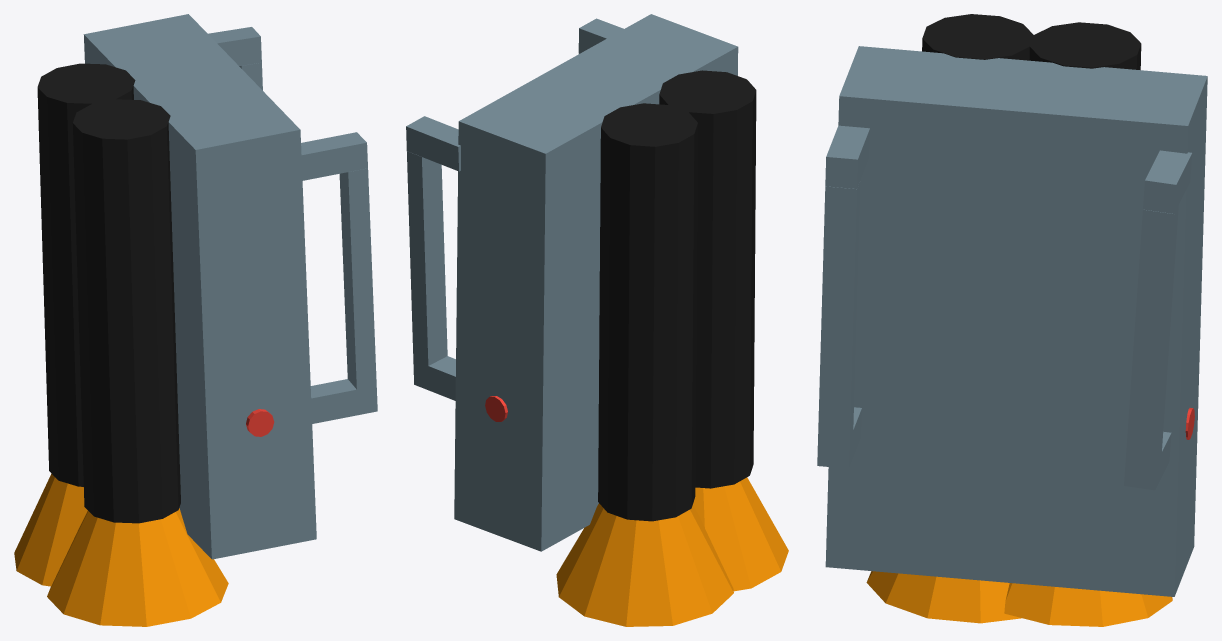
The model's file is jetpack.fbx.
3 renders of one model, left to right at view 1: azimuth 30°, elevation 25°; view 2: azimuth 150°, elevation 25°; view 3: azimuth 270°, elevation 25°, orthographic. The views are drawn at different scales.
Visible parts, largest first — view 1: mesh_273668604, mesh_255379960, mesh_597923606, mesh_1054731255, group_963526273, mesh_1521484290, group_1349691165, mesh_1760991102; view 2: mesh_273668604, mesh_597923606, mesh_255379960, mesh_1521484290, group_1349691165, mesh_1054731255, group_963526273; view 3: mesh_273668604, group_1349691165, group_963526273, mesh_1054731255, mesh_1521484290, mesh_597923606, mesh_255379960.
Boxes of the visible parts, <box> form: mesh_273668604: <box>83,14,316,559</box>; mesh_255379960: <box>72,99,180,523</box>; mesh_597923606: <box>37,63,135,486</box>; mesh_1054731255: <box>47,508,228,626</box>; group_963526273: <box>301,132,377,423</box>; mesh_1521484290: <box>14,473,87,586</box>; group_1349691165: <box>208,27,262,90</box>; mesh_1760991102: <box>246,409,274,436</box>; mesh_273668604: <box>454,14,738,551</box>; mesh_597923606: <box>598,103,697,521</box>; mesh_255379960: <box>659,70,756,488</box>; mesh_1521484290: <box>556,503,733,626</box>; group_1349691165: <box>406,116,460,400</box>; mesh_1054731255: <box>693,477,788,591</box>; group_963526273: <box>578,18,623,53</box>; mesh_273668604: <box>825,46,1207,596</box>; group_1349691165: <box>1124,150,1192,490</box>; group_963526273: <box>817,125,869,468</box>; mesh_1054731255: <box>866,571,1021,623</box>; mesh_1521484290: <box>1004,583,1172,626</box>; mesh_597923606: <box>1029,22,1141,70</box>; mesh_255379960: <box>922,14,1033,60</box>.
Size of the model in its own units: 23.34 by 37.82 by 24.33.
